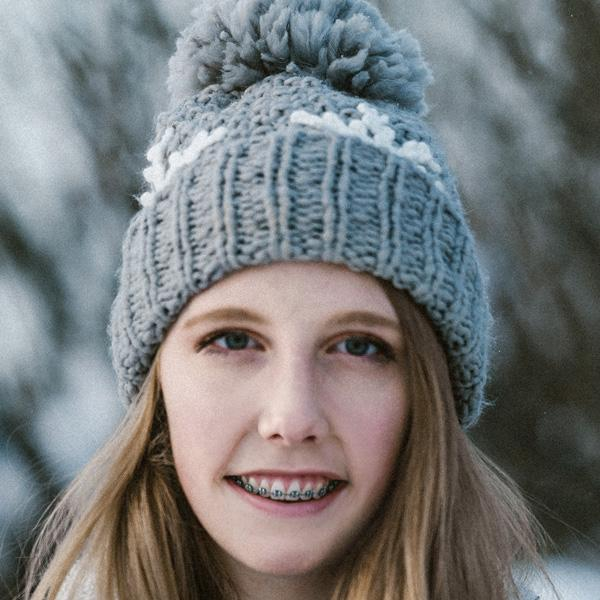Eyes: (316, 321, 405, 376), (192, 318, 275, 365)
